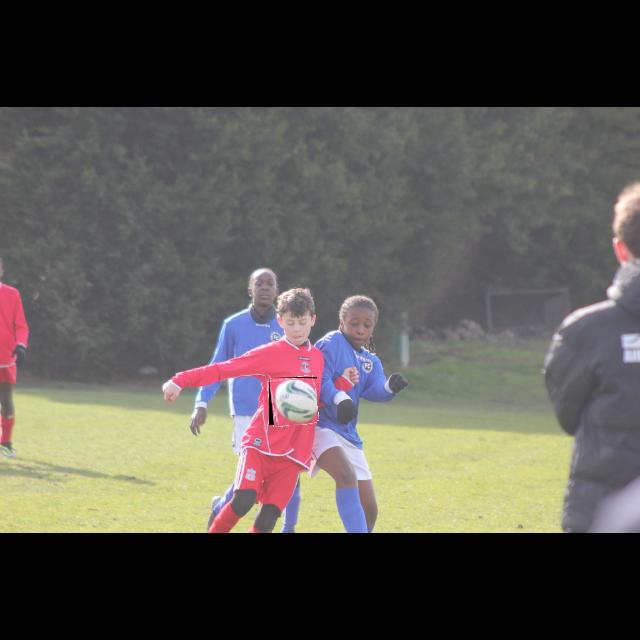Football: (269, 377, 317, 425)
